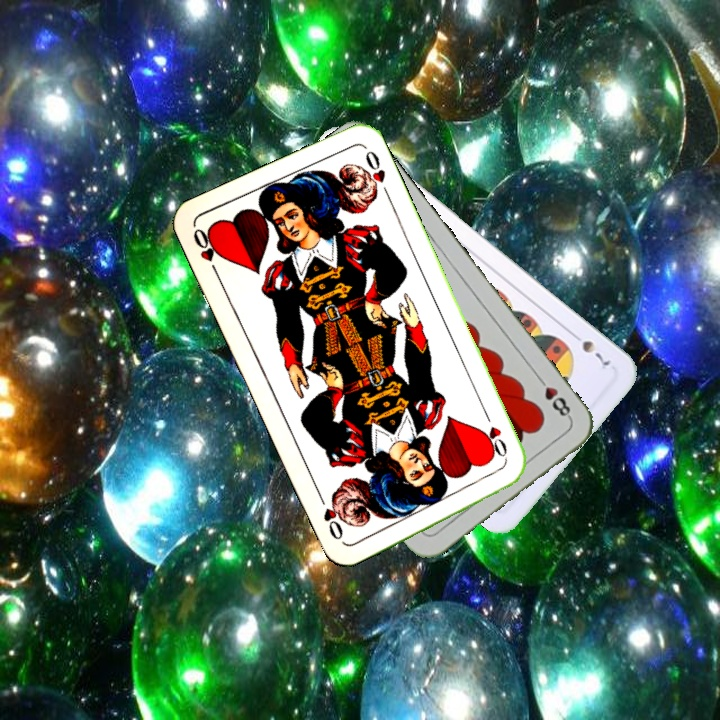H8: (532, 372, 574, 422)
HO: (189, 224, 224, 279), (478, 410, 511, 468)
S7: (566, 327, 612, 369)
